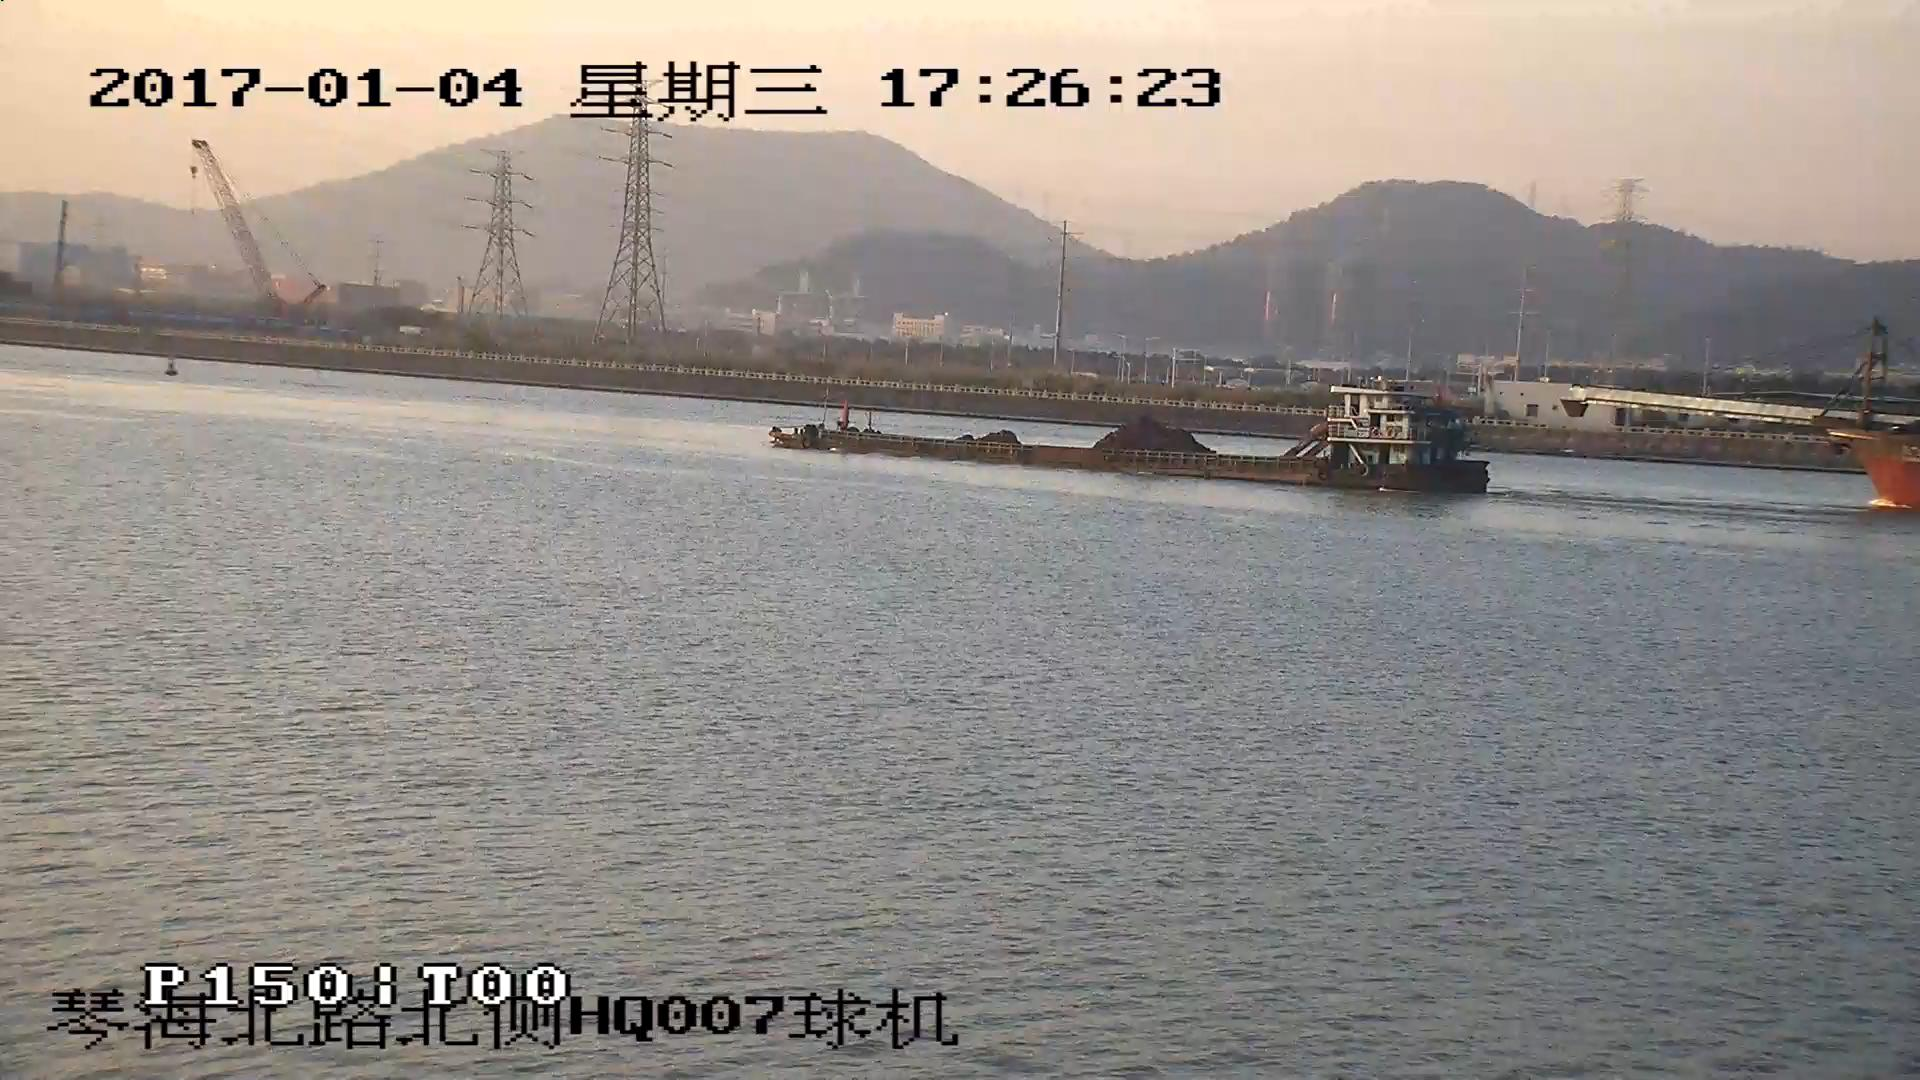ore carrier: (775, 384, 1490, 499)
